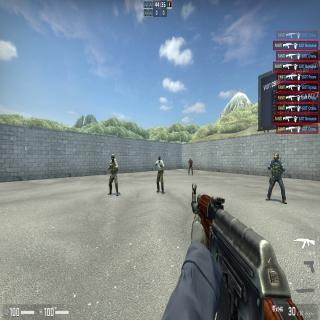CT-Body: (269, 153, 283, 201), (108, 154, 118, 194)
CT-Head: (274, 153, 279, 162), (110, 154, 114, 162)
T-Body: (156, 156, 164, 193), (190, 157, 192, 175)
T-Head: (158, 156, 161, 162), (190, 157, 191, 161)
